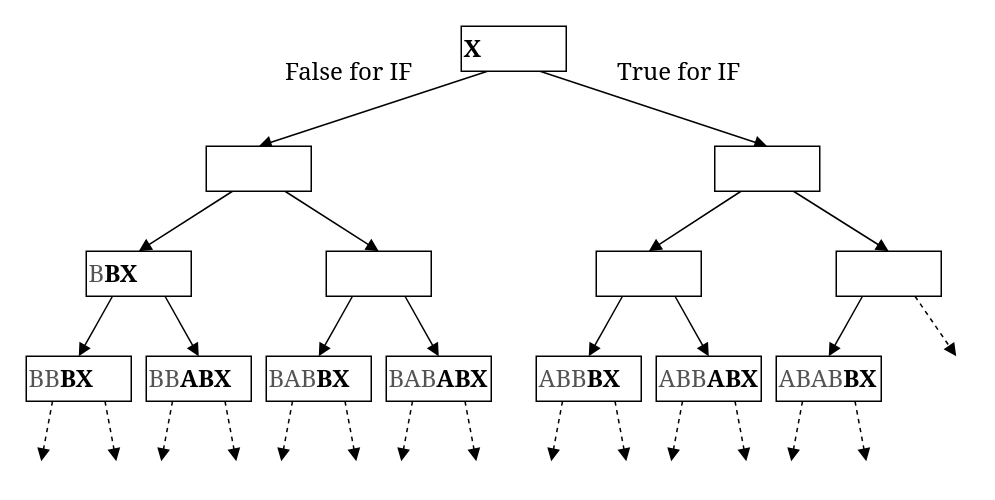
This 995x500 diagram has some shape labels left out. Here are the shapes that lost their labels. From the top down, the box of each, then its label:
(205, 145, 311, 191): BX
(713, 145, 820, 191): ABX
(325, 250, 431, 296): B ABX
(595, 250, 701, 296): AB BX
(835, 250, 941, 296): AB ABX
